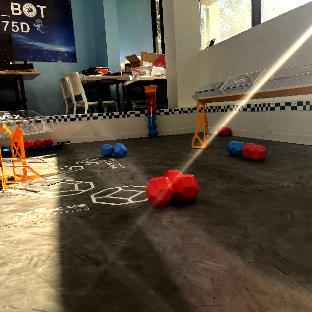V5_BLUE: (101, 143, 127, 157)
V5_RED: (146, 170, 198, 206), (144, 86, 157, 136), (241, 144, 266, 162), (23, 140, 53, 148), (218, 127, 232, 136)
